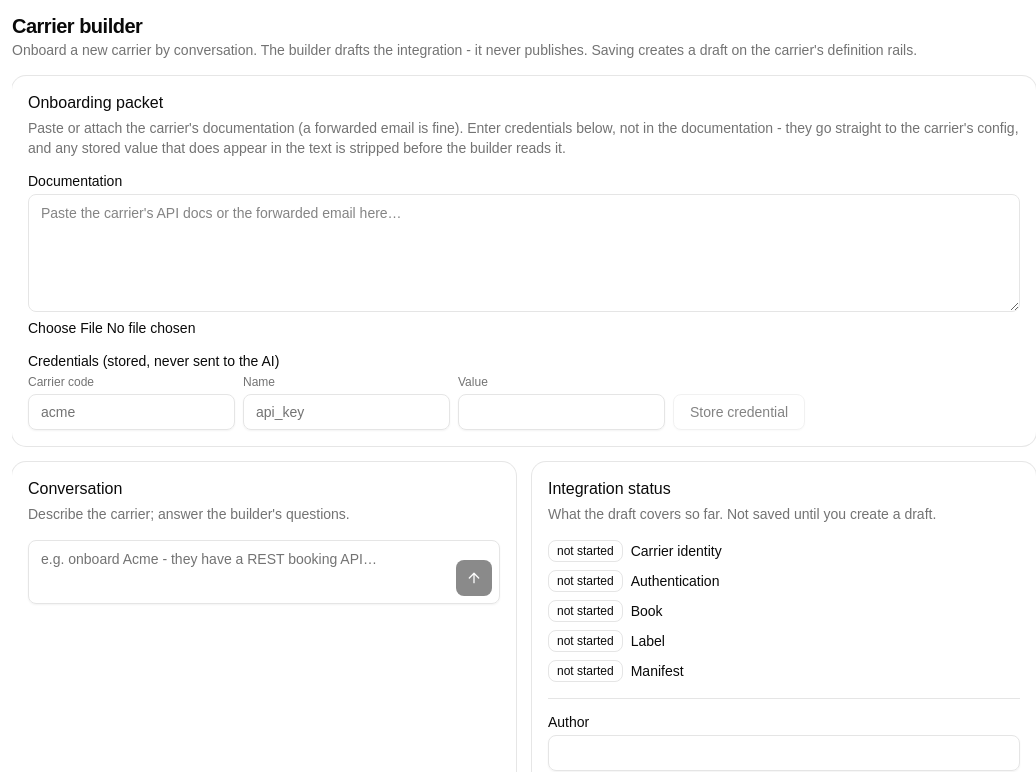
Test: CarrierBuilderPage › shows the capability board updating as the builder drafts
Check: the text "not started" next to "Carrier identity" is shown, box 557,544 -> 614,558
Type "onboard acme" into the text box named "message the carrier builder" at [264, 572], box 28,540 -> 500,604
Then press Enter
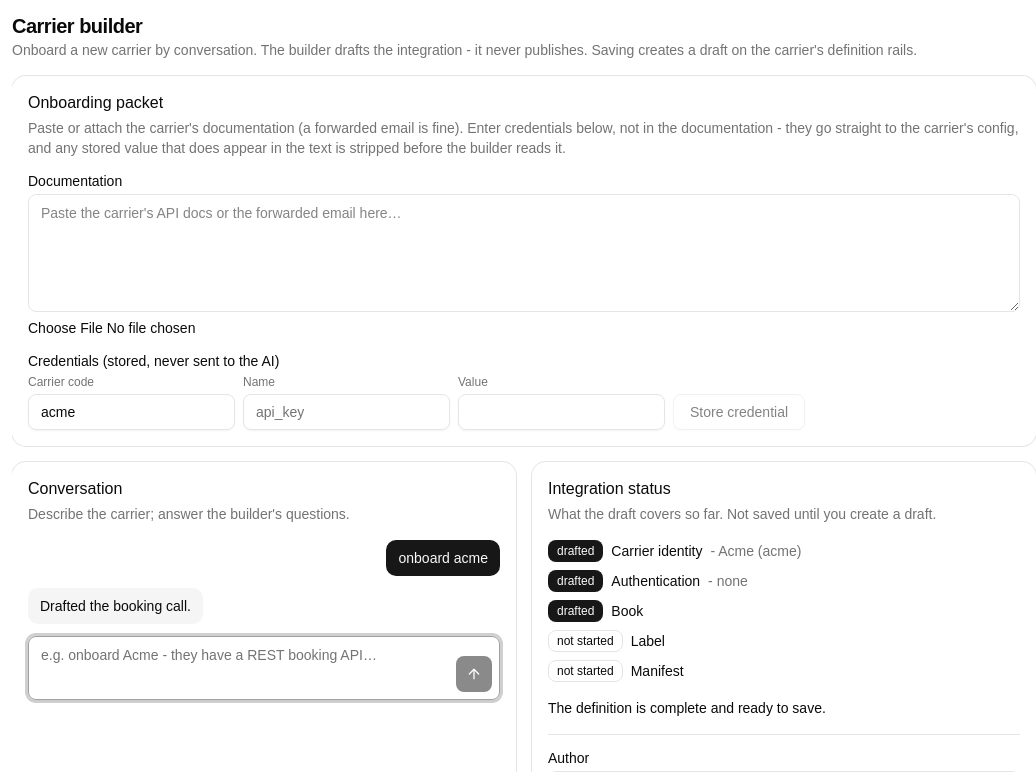
Check: the text "Drafted the booking call." is shown, box 28,588 -> 203,624
Check: the text "- Acme (acme)" is shown, box 710,541 -> 801,561
Check: the text "The definition is complete and ready to save." is shown, box 548,700 -> 826,716
